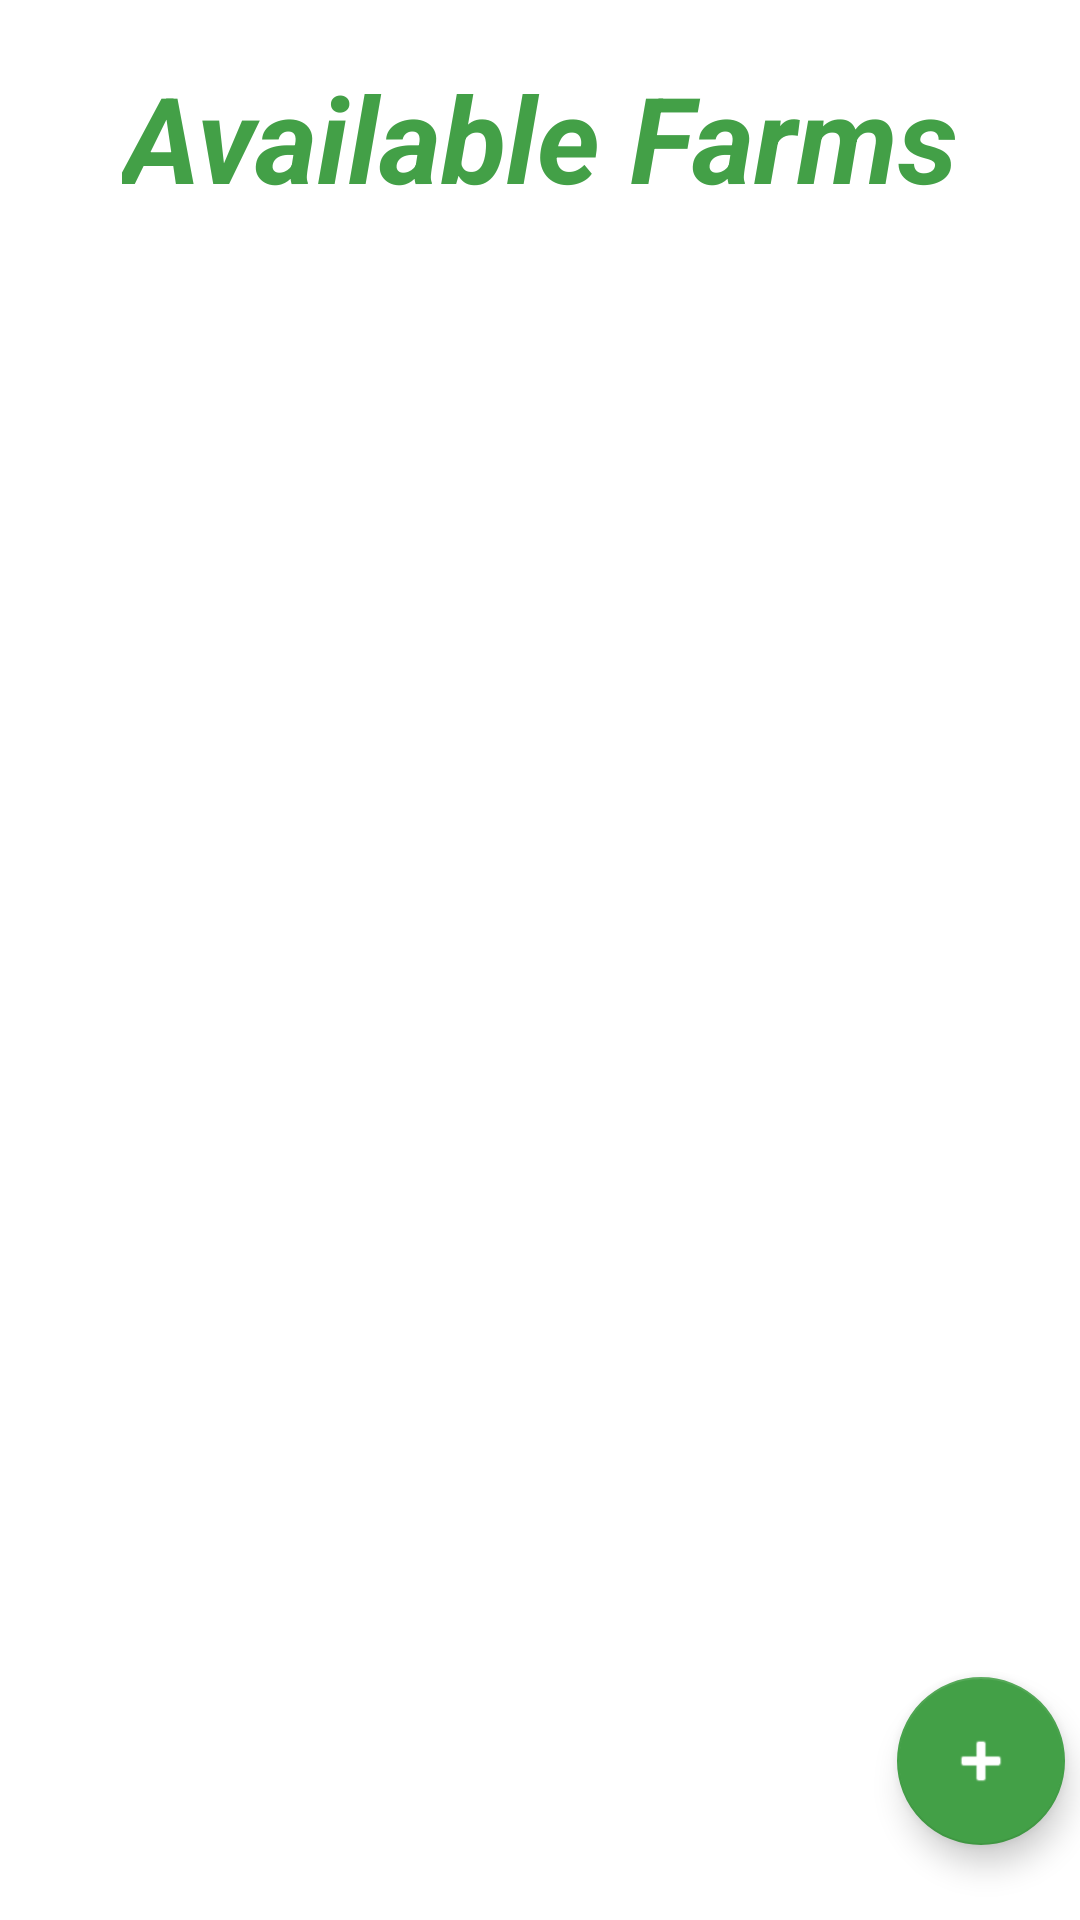

Icons on this 1080w x 1920h Android screen, each with the point to tap as [x,y]:
add: [981,1761]
